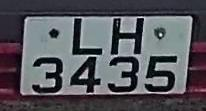3: (30, 55, 69, 97), (103, 56, 144, 95)
4: (66, 53, 105, 97)
5: (139, 54, 182, 96)
H: (107, 14, 148, 56)
L: (65, 15, 107, 58)
